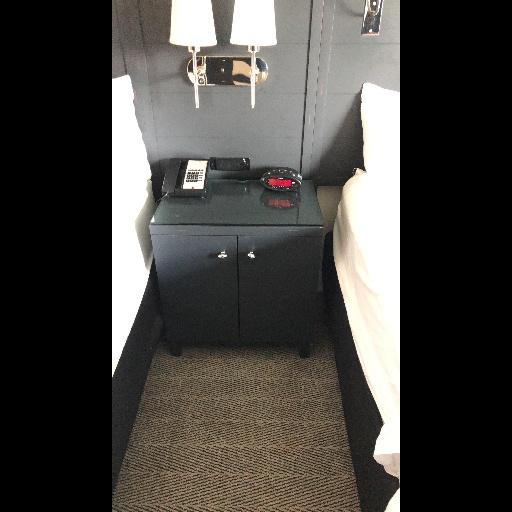lamp: (160, 0, 280, 115)
organized table: (159, 156, 331, 364)
